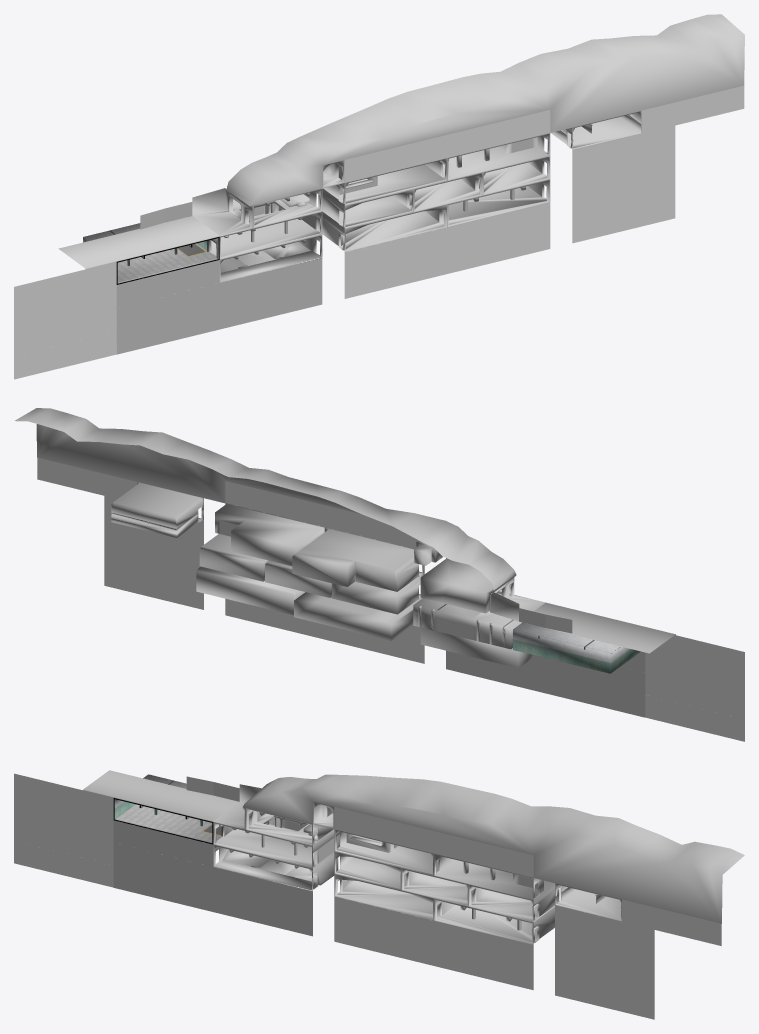
3 views of the same model, one above another, from view 1: azimuth 30°, elevation 25°; view 2: azimuth 150°, elevation 25°; view 3: azimuth 330°, elevation 25° (orthographic). The views are drawn at different scales.
Parts seen in each view (by area): view 1: ВыдавливаниеNURBS.2, Объект Куб.1.3, Объект Куб.4.2, вход пол, Станция Воды, Гараж, Sclad, Столовая.5, Казарма.2, Ферма, Объект Куб.9, Объект Куб.2 (+17 smaller); view 2: ВыдавливаниеNURBS.2, Объект Куб.4.2, Столовая.5, Казарма.2, Объект Куб.1.3, СанЧасть, Sclad, Станция Воды, Гараж, Вход Зал, вход пол, Ферма (+15 smaller); view 3: ВыдавливаниеNURBS.2, Объект Куб.4.2, Объект Куб.1.3, вход пол, Гараж, Генератор, Ферма, Sclad, Казарма.2, земля, Столовая.5, Станция Воды (+18 smaller).
Boxes of the visible parts, x1=… form: ВыдавливаниеNURBS.2: x1=226, y1=14, x2=744, y2=205; Объект Куб.1.3: x1=344, y1=202, x2=550, y2=298; Объект Куб.4.2: x1=116, y1=258, x2=322, y2=354; вход пол: x1=58, y1=216, x2=219, y2=269; Станция Воды: x1=316, y1=204, x2=447, y2=252; Гараж: x1=209, y1=201, x2=322, y2=259; Sclad: x1=83, y1=223, x2=219, y2=284; Столовая.5: x1=323, y1=158, x2=447, y2=205; Казарма.2: x1=441, y1=133, x2=550, y2=180; Ферма: x1=441, y1=179, x2=550, y2=227; Объект Куб.9: x1=447, y1=109, x2=550, y2=157; Объект Куб.2: x1=572, y1=195, x2=675, y2=243; ВыдавливаниеNURBS.2: x1=15, y1=408, x2=515, y2=590; Объект Куб.4.2: x1=446, y1=650, x2=645, y2=717; Столовая.5: x1=292, y1=527, x2=424, y2=591; Казарма.2: x1=215, y1=503, x2=324, y2=565; Объект Куб.1.3: x1=225, y1=598, x2=424, y2=663; СанЧасть: x1=111, y1=482, x2=203, y2=537; Sclad: x1=513, y1=622, x2=640, y2=673; Станция Воды: x1=294, y1=592, x2=422, y2=640; Гараж: x1=413, y1=598, x2=521, y2=649; Вход Зал: x1=420, y1=558, x2=511, y2=613; вход пол: x1=533, y1=602, x2=675, y2=653; Ферма: x1=196, y1=566, x2=305, y2=615; ВыдавливаниеNURBS.2: x1=243, y1=774, x2=744, y2=923; Объект Куб.4.2: x1=113, y1=843, x2=312, y2=936; Объект Куб.1.3: x1=334, y1=896, x2=533, y2=990; вход пол: x1=83, y1=770, x2=238, y2=821; Гараж: x1=213, y1=815, x2=339, y2=868; Генератор: x1=213, y1=844, x2=338, y2=891; Ферма: x1=434, y1=898, x2=554, y2=945; Sclad: x1=113, y1=774, x2=222, y2=844; Казарма.2: x1=434, y1=853, x2=543, y2=900; земля: x1=113, y1=820, x2=213, y2=866; Столовая.5: x1=334, y1=829, x2=439, y2=875; Станция Воды: x1=334, y1=874, x2=439, y2=920.
Size of the model in its own units: 10881 by 2511 by 900.
